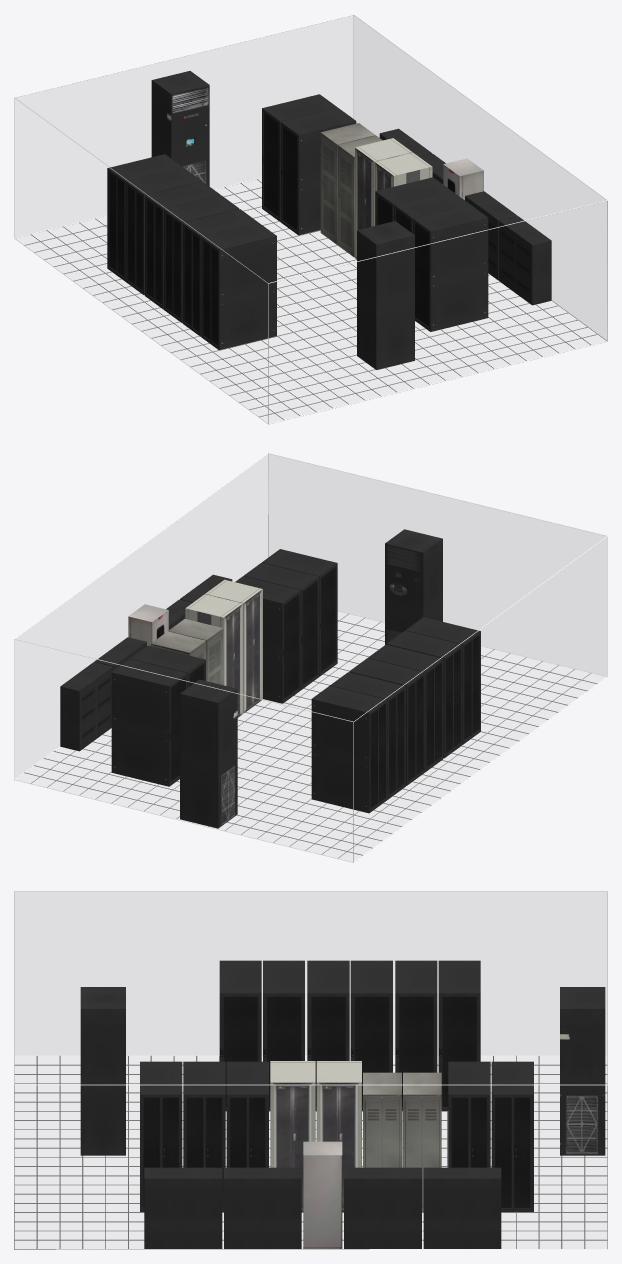
The model's file is 5F_MoveRing.gltf.
3 views of the same model, one above another, from view 1: azimuth 30°, elevation 25°; view 2: azimuth 150°, elevation 25°; view 3: azimuth 270°, elevation 25° (orthographic). The views are drawn at different scales.
Parts seen in each view (by area): view 1: 5F_Opacity_Wall, JiGui, 5F_Opacity_Ground, 5F_USP_JG, 5F_Opacity_Ground_Line, S0E31, S0E61, S0E42, JiGui02, 5F_Opacity_Wall_Line, JiGui04, JiGui03 (+1 smaller); view 2: 5F_Opacity_Wall, JiGui, 5F_Opacity_Ground, S0E61, 5F_Opacity_Ground_Line, S0E31, S0E41, 5F_Opacity_Wall_Line, JiGui03, 5F_USP_JG, JiGui02, JiGui04 (+1 smaller); view 3: 5F_Opacity_Wall, JiGui, 5F_Opacity_Ground, S0E42, S0E41, S0E61, S0E31, 5F_Opacity_Ground_Line, JiGui04, 5F_USP_JG, JiGui03, JiGui02 (+1 smaller).
Part boxes in pixels (x1=…): 5F_Opacity_Wall: x1=15, y1=16, x2=606, y2=339; JiGui: x1=107, y1=94, x2=483, y2=349; 5F_Opacity_Ground: x1=16, y1=179, x2=605, y2=422; 5F_USP_JG: x1=412, y1=204, x2=488, y2=331; 5F_Opacity_Ground_Line: x1=24, y1=179, x2=597, y2=419; S0E31: x1=357, y1=221, x2=414, y2=369; S0E61: x1=151, y1=71, x2=209, y2=186; S0E42: x1=465, y1=191, x2=551, y2=305; JiGui02: x1=163, y1=195, x2=239, y2=322; 5F_Opacity_Wall_Line: x1=14, y1=14, x2=607, y2=424; JiGui04: x1=126, y1=167, x2=201, y2=295; JiGui03: x1=145, y1=181, x2=220, y2=309; 5F_Opacity_Wall: x1=15, y1=454, x2=606, y2=778; JiGui: x1=111, y1=562, x2=480, y2=813; 5F_Opacity_Ground: x1=16, y1=612, x2=605, y2=861; S0E61: x1=180, y1=679, x2=237, y2=828; 5F_Opacity_Ground_Line: x1=24, y1=613, x2=597, y2=858; S0E31: x1=385, y1=529, x2=442, y2=644; S0E41: x1=60, y1=637, x2=146, y2=751; 5F_Opacity_Wall_Line: x1=14, y1=453, x2=607, y2=862; JiGui03: x1=349, y1=658, x2=424, y2=785; 5F_USP_JG: x1=262, y1=549, x2=337, y2=676; JiGui02: x1=368, y1=644, x2=443, y2=772; JiGui04: x1=330, y1=672, x2=405, y2=799; 5F_Opacity_Wall: x1=15, y1=892, x2=606, y2=1054; JiGui: x1=183, y1=960, x2=533, y2=1248; 5F_Opacity_Ground: x1=15, y1=1057, x2=606, y2=1248; S0E42: x1=144, y1=1167, x2=301, y2=1248; S0E41: x1=344, y1=1167, x2=501, y2=1248; S0E61: x1=560, y1=987, x2=605, y2=1155; S0E31: x1=80, y1=987, x2=125, y2=1155; 5F_Opacity_Ground_Line: x1=14, y1=1055, x2=607, y2=1248; JiGui04: x1=395, y1=960, x2=437, y2=1110; 5F_USP_JG: x1=140, y1=1061, x2=182, y2=1211; JiGui03: x1=350, y1=960, x2=392, y2=1110; JiGui02: x1=307, y1=960, x2=349, y2=1110.
Size of what is drawn, in the model's own units: 0.5661 by 0.225 by 0.7333.
12 materials, 9 textured.
